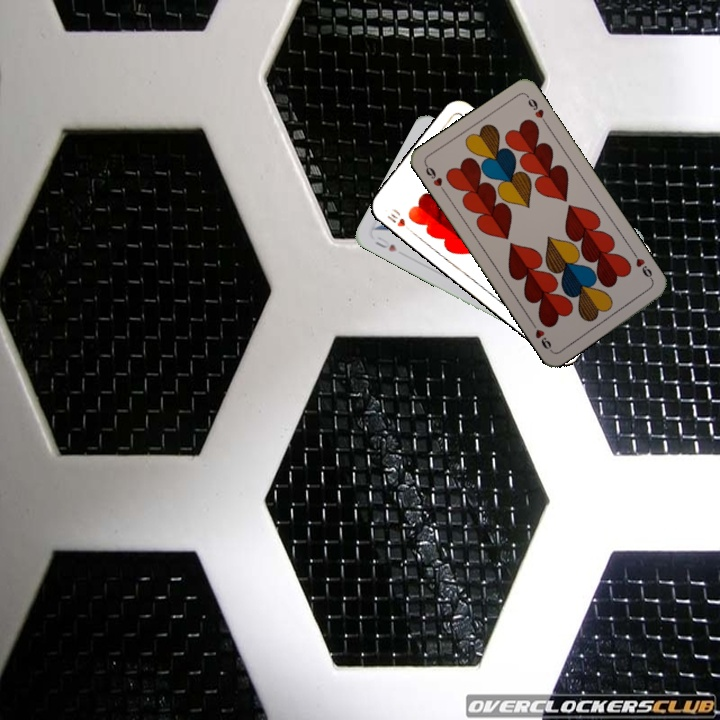H10: (383, 204, 416, 236)
H9: (421, 160, 449, 196), (629, 248, 656, 284)
HU: (371, 232, 399, 254)
